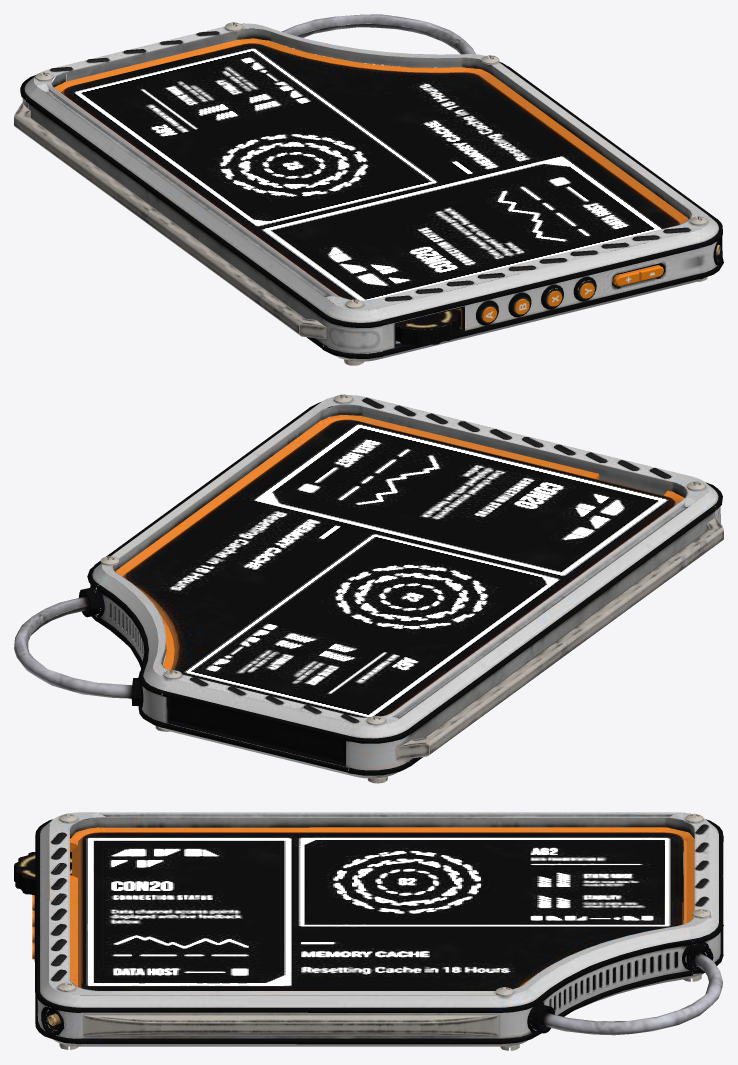
File: item.service.expedition_service.glb
The picture shows the model from 3 angles, top to bottom: view 1: azimuth 30°, elevation 25°; view 2: azimuth 150°, elevation 25°; view 3: azimuth 270°, elevation 25°; orthographic projection. The views are drawn at different scales.
Visible parts, largest first — view 1: Body1; view 2: Body1; view 3: Body1.
Part boxes in pixels (x1=…): Body1: x1=14, y1=14, x2=723, y2=365; Body1: x1=14, y1=394, x2=723, y2=783; Body1: x1=14, y1=812, x2=723, y2=1050.
Size of the model in its own units: 0.8244 by 0.1145 by 1.2.
Materials: 8 (8 with a texture image).
